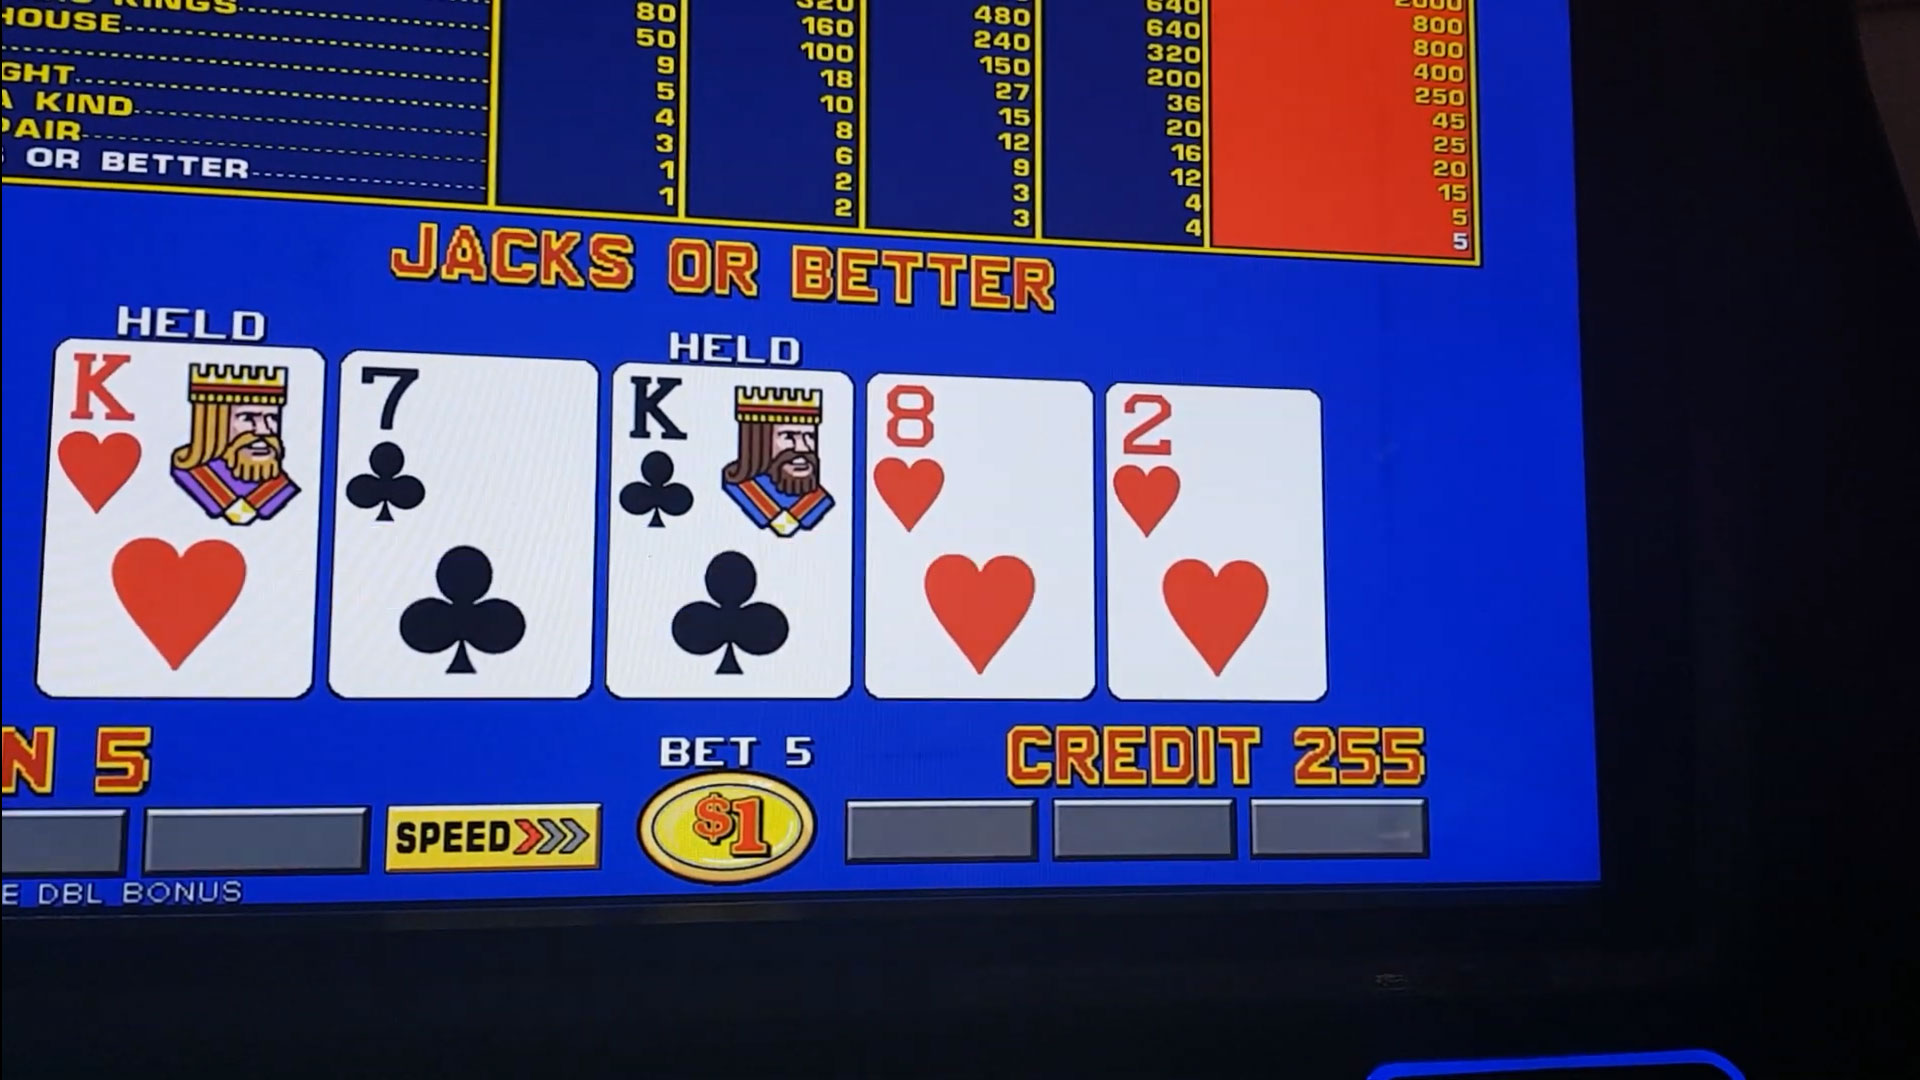C7: (344, 369, 593, 542)
CK: (615, 377, 848, 543)
H2: (1112, 396, 1313, 550)
H8: (870, 386, 1091, 547)
HK: (59, 349, 316, 535)
